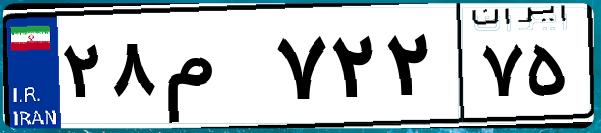2: (385, 28, 445, 110), (330, 28, 385, 110), (57, 26, 110, 100)
5: (525, 38, 570, 115)
7: (270, 28, 330, 110), (475, 38, 525, 113)
8: (110, 28, 158, 98)
م: (158, 20, 270, 120)
